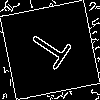T: (25, 25, 80, 76)
